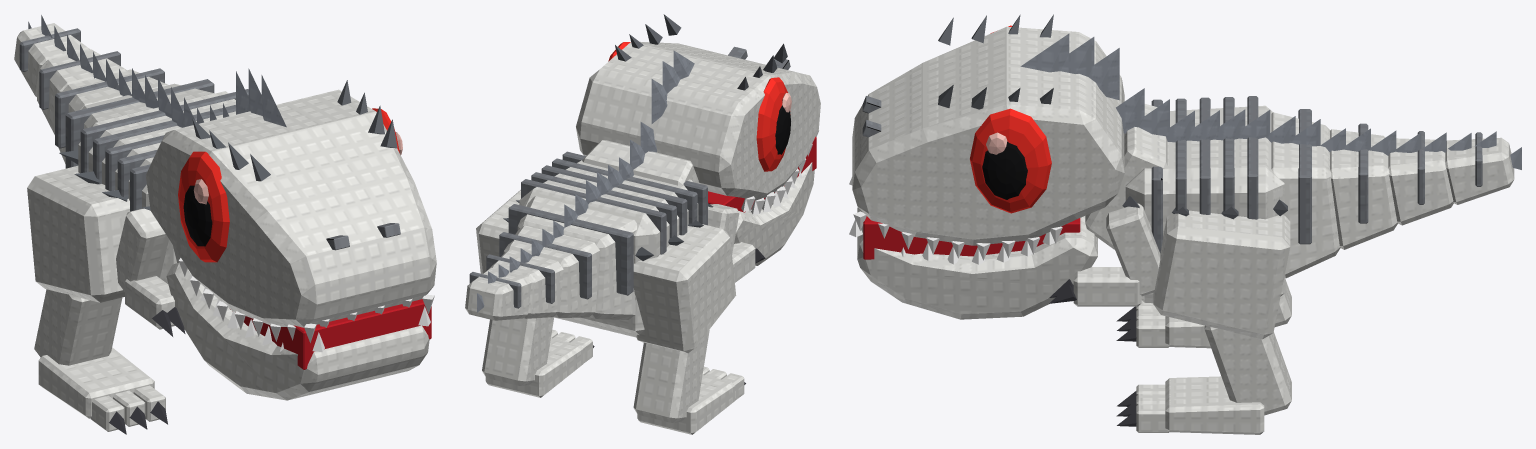
Rendered from bebe_20_Indominus_Rex.glb.
3 renders of one model, left to right at view 1: azimuth 30°, elevation 25°; view 2: azimuth 150°, elevation 25°; view 3: azimuth 270°, elevation 25°, orthographic. The views are drawn at different scales.
Parts seen in each view (by area): view 1: bebe_20_Indominus_Rex; view 2: bebe_20_Indominus_Rex; view 3: bebe_20_Indominus_Rex.
Part boxes in pixels (x1,y1,x2,y2): bebe_20_Indominus_Rex: (14, 15, 436, 434); bebe_20_Indominus_Rex: (465, 14, 820, 434); bebe_20_Indominus_Rex: (849, 14, 1521, 434).
Bounding box in the file's own units: 3.41 × 4.61 × 8.17.
1 material, 1 textured.
